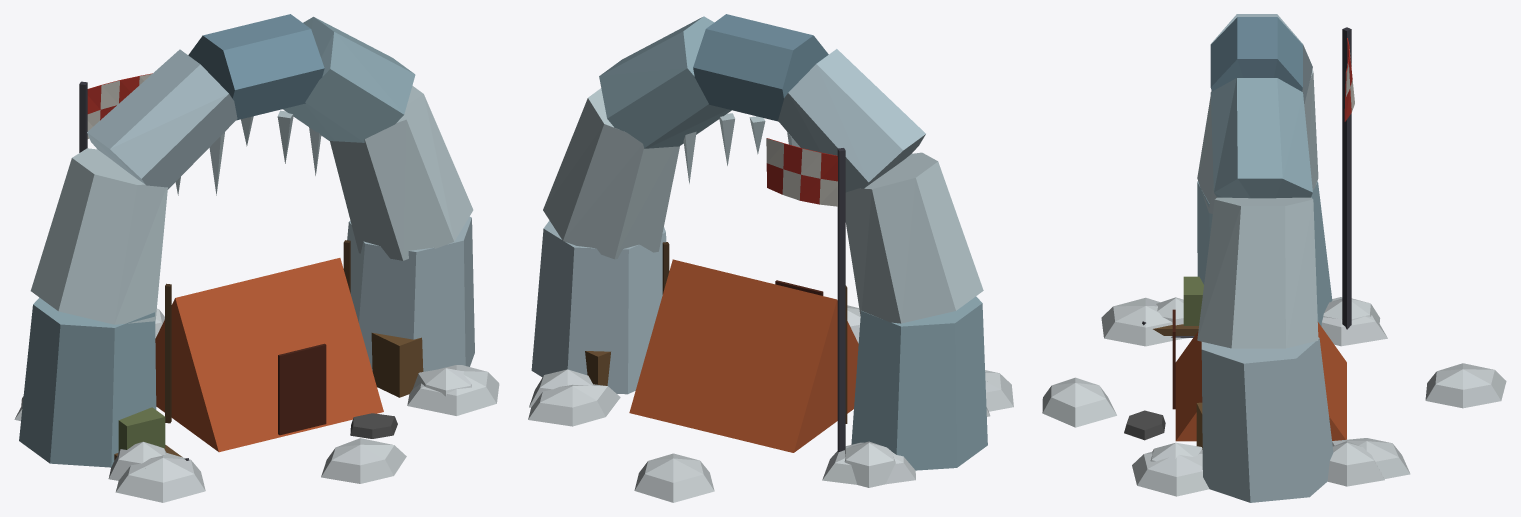
File: peaks.glb
The picture shows the model from 3 angles, left to right: view 1: azimuth 30°, elevation 25°; view 2: azimuth 150°, elevation 25°; view 3: azimuth 270°, elevation 25°; orthographic projection. The views are drawn at different scales.
Visible parts, largest first — view 1: peaks_ice_arch_a, peaks_expedition_camp_a; view 2: peaks_ice_arch_a, peaks_expedition_camp_a; view 3: peaks_ice_arch_a, peaks_expedition_camp_a.
Part boxes in pixels (x1,y1,x2,y2): peaks_ice_arch_a: [19, 14, 474, 480]; peaks_expedition_camp_a: [14, 73, 499, 502]; peaks_ice_arch_a: [529, 14, 990, 487]; peaks_expedition_camp_a: [528, 138, 1013, 502]; peaks_ice_arch_a: [1150, 14, 1384, 502]; peaks_expedition_camp_a: [1042, 27, 1506, 496].
Bounding box in the file's own units: 3.14 × 2.57 × 2.98.
